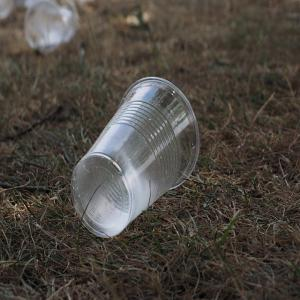Cup: (70, 76, 204, 242)
